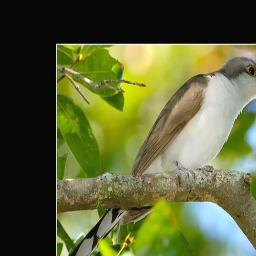Cuckoo: (56, 53, 256, 256)
